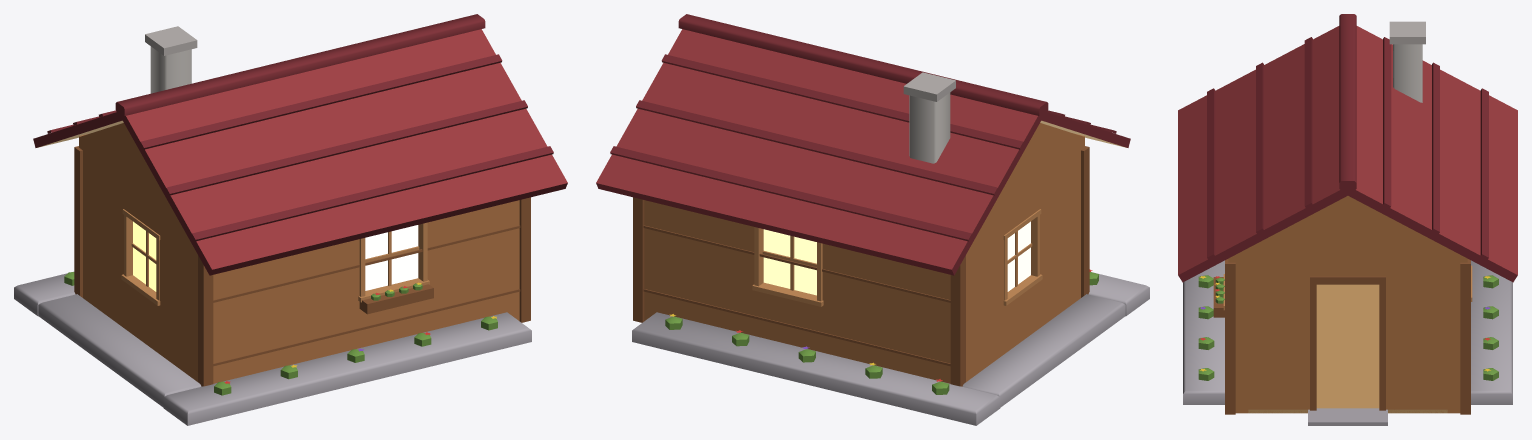
Rendered from zookeeper_house.glb.
3 renders of one model, left to right at view 1: azimuth 30°, elevation 25°; view 2: azimuth 150°, elevation 25°; view 3: azimuth 270°, elevation 25°, orthographic. The views are drawn at different scales.
Visible parts, largest first — view 1: roof, zookeeper_house, walls_upper; view 2: roof, zookeeper_house, walls_upper; view 3: roof, zookeeper_house, walls_upper.
Part boxes in pixels (box(x1,y1,x2,y2)): roof: box(33, 14, 567, 275); zookeeper_house: box(14, 242, 531, 425); walls_upper: box(74, 123, 530, 336); roof: box(596, 14, 1130, 275); zookeeper_house: box(632, 242, 1149, 425); walls_upper: box(633, 123, 1089, 336); roof: box(1178, 14, 1517, 282); zookeeper_house: box(1183, 260, 1512, 425); walls_upper: box(1223, 196, 1472, 354).
Bounding box in the file's own units: 6.43 × 4.37 × 5.11.
2 materials, 2 textured.
